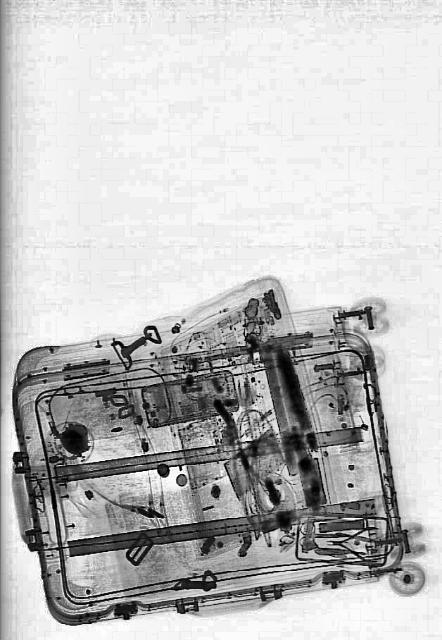Pliers: (328, 526, 378, 560)
